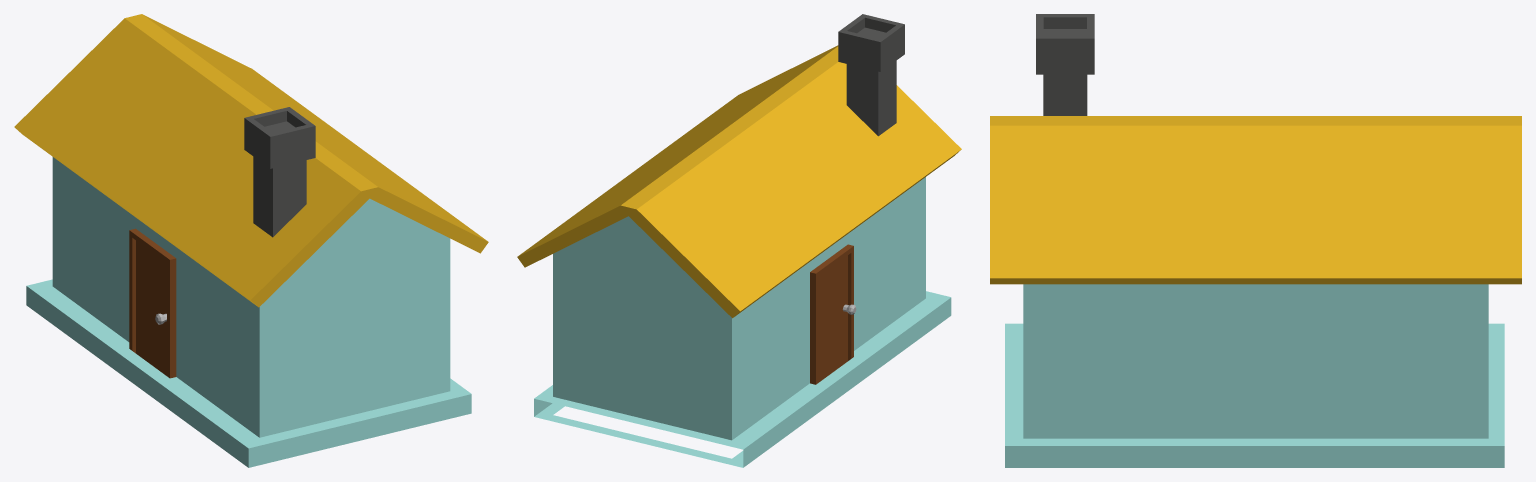
File: huisC.fbx
3 views of the same model, side by side, from view 1: azimuth 30°, elevation 25°; view 2: azimuth 150°, elevation 25°; view 3: azimuth 270°, elevation 25° (orthographic). The views are drawn at different scales.
Visible parts, largest first — view 1: Cube, roof, chimney, Cube.001; view 2: Cube, roof, chimney, Cube.001; view 3: Cube, roof, chimney.
Boxes of the visible parts, x1,y1,x2,y2 form: Cube: [26, 157, 471, 467]; roof: [14, 14, 488, 307]; chimney: [244, 107, 315, 237]; Cube.001: [129, 228, 176, 378]; Cube: [534, 177, 951, 467]; roof: [517, 45, 961, 318]; chimney: [838, 14, 904, 136]; Cube.001: [810, 244, 853, 384]; Cube: [1005, 284, 1504, 467]; roof: [990, 116, 1521, 284]; chimney: [1036, 14, 1094, 115].
Size of the model in its own units: 415 by 520 by 713.
